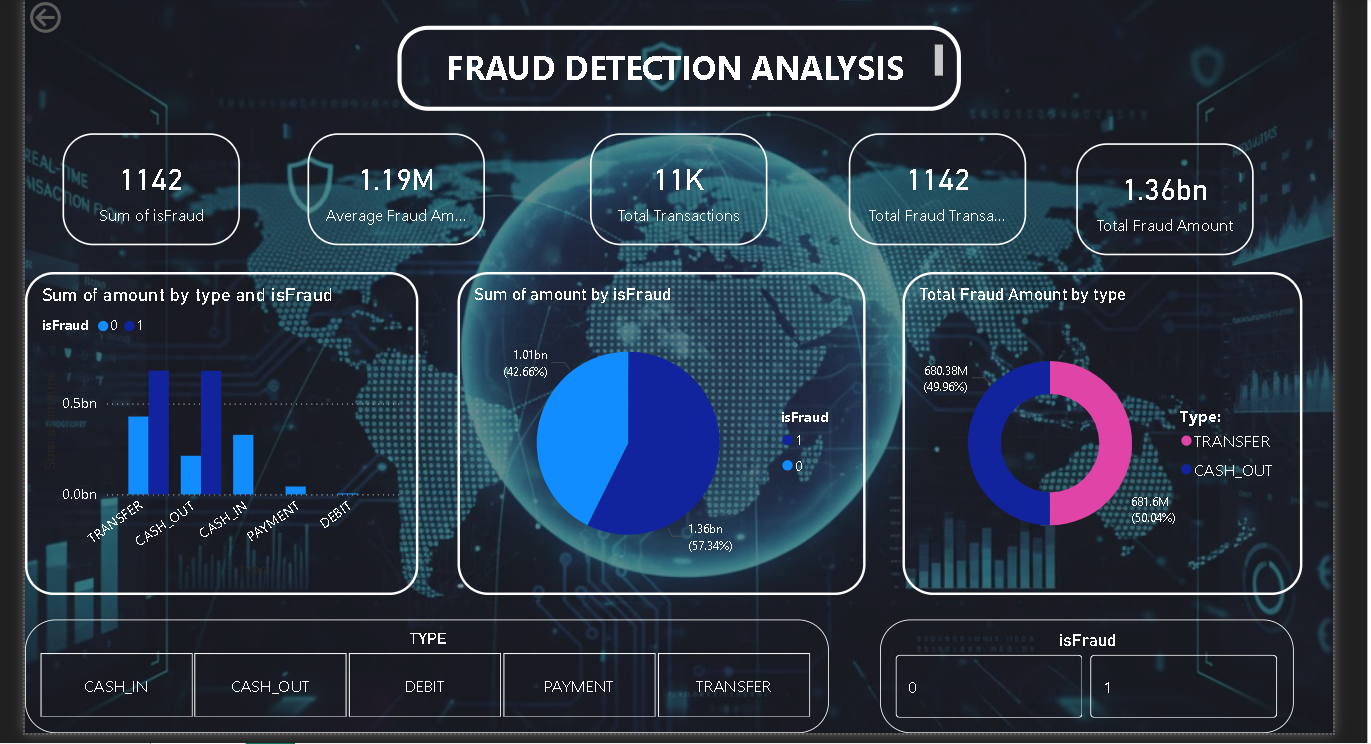

The dashboard page shown, as its layout file describes it:
{"tool":"powerbi","page":{"name":"Page 1","canvas":[1280,720],"ordinal":0},"visuals":[{"type":"textbox","box":[364.4,28.1,551.5,83.2],"z":0},{"type":"card","fields":{"Values":["Sum(Fraud_Analysis_Dataset.isFraud)"]},"box":[37.1,133.2,173.7,109.6],"z":1000},{"type":"card","fields":{"Values":["Fraud_Analysis_Dataset.Average Fraud Amount"]},"box":[276.5,133.2,173.7,109.6],"z":2000},{"type":"card","fields":{"Values":["Fraud_Analysis_Dataset.Total Fraud Amount"]},"box":[1028.5,143.3,173.7,109.6],"z":3000},{"type":"card","fields":{"Values":["Fraud_Analysis_Dataset.Total Fraud Transactions"]},"box":[805.9,132.7,173.7,109.8],"z":4000},{"type":"card","fields":{"Values":["Fraud_Analysis_Dataset.Total Transactions"]},"box":[553,133.2,173.7,109.6],"z":5000},{"type":"clusteredColumnChart","fields":{"Category":["Fraud_Analysis_Dataset.type"],"Y":["Sum(Fraud_Analysis_Dataset.amount)"],"Series":["Fraud_Analysis_Dataset.isFraud"]},"box":[0,269,384.9,316.1],"z":6000},{"type":"pieChart","fields":{"Category":["Fraud_Analysis_Dataset.isFraud"],"Y":["Sum(Fraud_Analysis_Dataset.amount)"]},"box":[423.5,269,399.3,316.1],"z":7000},{"type":"actionButton","box":[0,0,100,40],"z":8000},{"type":"donutChart","fields":{"Category":["Fraud_Analysis_Dataset.type"],"Y":["Fraud_Analysis_Dataset.Total Fraud Amount"]},"box":[859,269,390.9,316.1],"z":9000},{"type":"advancedSlicerVisual","title":"TYPE","fields":{"Values":["Fraud_Analysis_Dataset.type"]},"box":[0,609.3,786.6,111],"z":10000},{"type":"advancedSlicerVisual","fields":{"Values":["Fraud_Analysis_Dataset.isFraud"]},"box":[836.4,609,404.8,111.3],"z":11000}]}

Visuals, with their boxes in screenshot pixels (x1, y1, x2, y2):
textbox: <region>392, 21, 953, 106</region>
card - Sum(Fraud_Analysis_Dataset.isFraud): <region>59, 128, 236, 240</region>
card - Fraud_Analysis_Dataset.Average Fraud Amount: <region>303, 128, 479, 240</region>
card - Fraud_Analysis_Dataset.Total Fraud Amount: <region>1068, 139, 1244, 250</region>
card - Fraud_Analysis_Dataset.Total Fraud Transactions: <region>841, 128, 1018, 240</region>
card - Fraud_Analysis_Dataset.Total Transactions: <region>584, 128, 761, 240</region>
clusteredColumnChart - Fraud_Analysis_Dataset.type x Sum(Fraud_Analysis_Dataset.amount): <region>21, 266, 413, 588</region>
pieChart - Fraud_Analysis_Dataset.isFraud x Sum(Fraud_Analysis_Dataset.amount): <region>452, 266, 858, 588</region>
actionButton: <region>21, 0, 123, 34</region>
donutChart - Fraud_Analysis_Dataset.type x Fraud_Analysis_Dataset.Total Fraud Amount: <region>895, 266, 1293, 588</region>
"TYPE" advancedSlicerVisual: <region>21, 613, 822, 726</region>
advancedSlicerVisual - Fraud_Analysis_Dataset.isFraud: <region>872, 612, 1284, 726</region>
